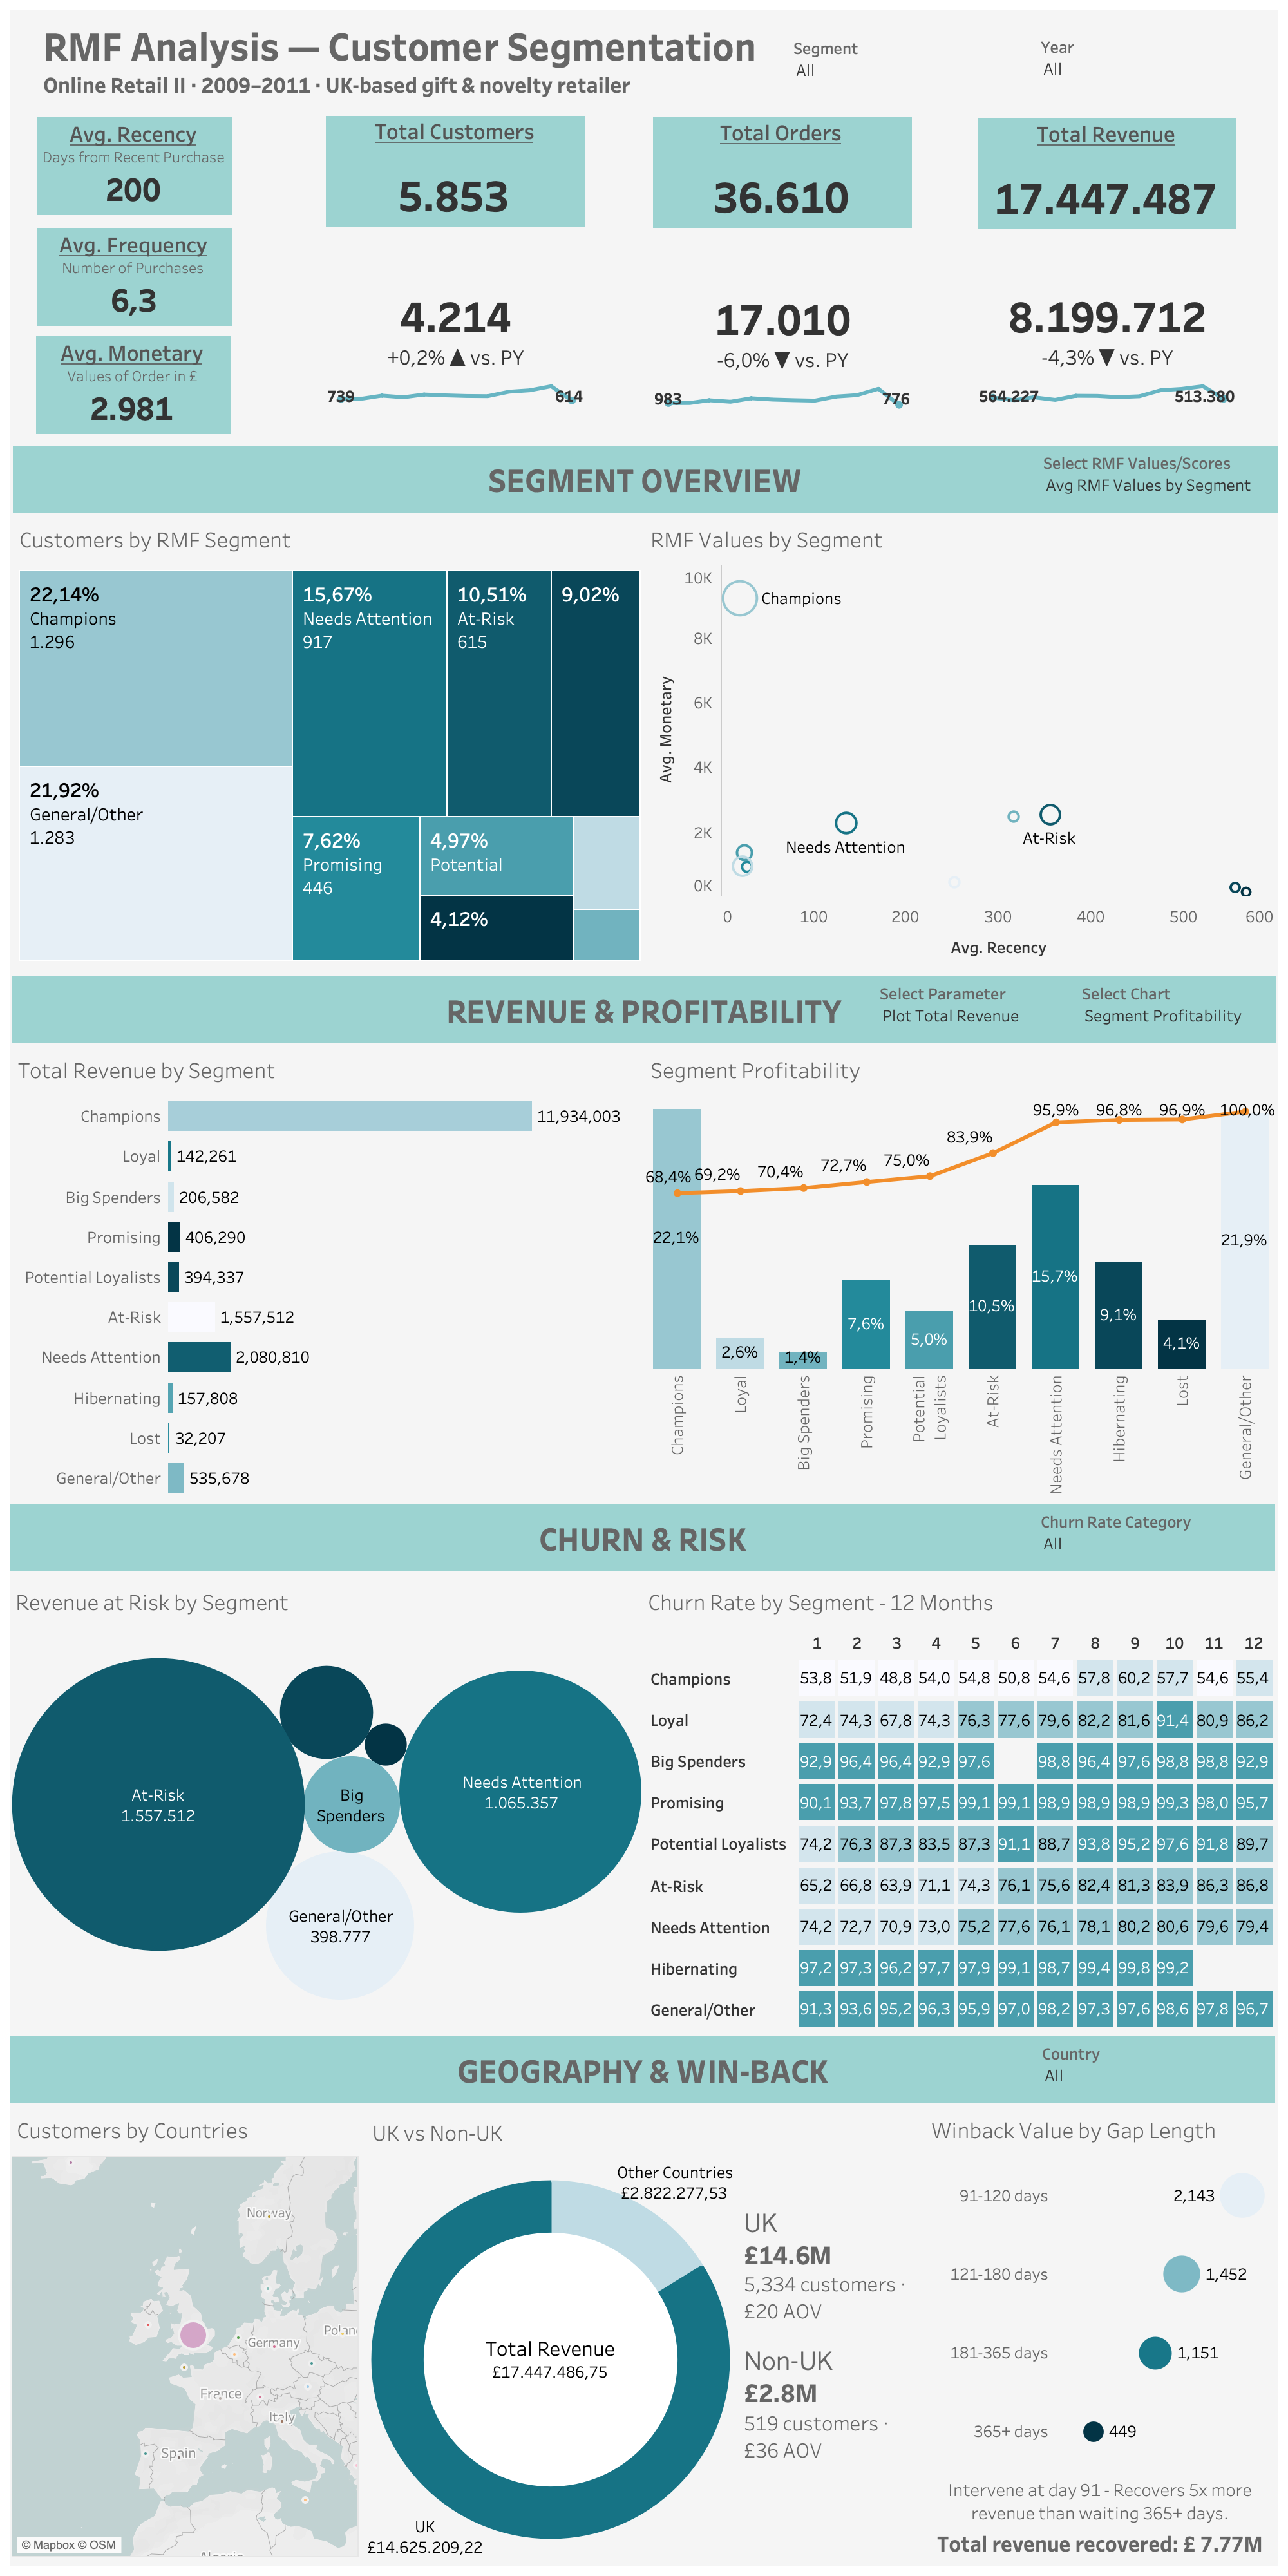

The page's visual inventory and layout, read from the dashboard file:
{"tool":"tableau","page":{"name":"RMFAnalysis Dashboard","canvas":[1000,2000],"ordinal":0},"visuals":[{"type":"text","box":[30.6,14,957.3,64.7]},{"type":"filter","title":"Customer Number by Segment","param":"[federated.0dqhiro10sj2xa1esg9tx1ptpyhj].[yr:invoice_date (cleaned_retail_main.c","box":[808,27,180,42]},{"type":"filter","title":"Customer Number by Segment","param":"[federated.0dqhiro10sj2xa1esg9tx1ptpyhj].[none:customer_segment (customer_rfm_se","box":[616,28,180,42]},{"type":"worksheet","title":"Total Customers ","mark":"Automatic","box":[253,90,200,85]},{"type":"worksheet","title":"Avg. Recency","mark":"Automatic","box":[29,91,150,75]},{"type":"worksheet","title":"Total Orders","mark":"Automatic","box":[507,91,200,85]},{"type":"worksheet","title":"Total Revenue","mark":"Automatic","box":[759,92,200,85]},{"type":"worksheet","title":"Avg. Frequency","mark":"Automatic","box":[29,177,150,75]},{"type":"worksheet","title":"Customers over 12 Months ","mark":"Automatic","rows":["customer_id (cleaned_retail_main.csv)"],"cols":["invoice_date (cleaned_retail_main.csv)"],"box":[254,217,200,100]},{"type":"worksheet","title":"Revenue over 12 Months","mark":"Automatic","rows":["total_price"],"cols":["invoice_date (cleaned_retail_main.csv)"],"box":[760,217,200,100]},{"type":"worksheet","title":"Orders over 12 Months ","mark":"Automatic","rows":["invoice (cleaned_retail_main.csv)"],"cols":["invoice_date (cleaned_retail_main.csv)"],"box":[508,219,200,100]},{"type":"worksheet","title":"Avg. Monetary","mark":"Automatic","box":[28,261,150,75]},{"type":"text","box":[10,346,982,52]},{"type":"parameter","param":"[Parameters].[Parameter 1]","box":[810,350,180,44]},{"type":"worksheet","title":"Customer Number by Segment","mark":"Automatic","box":[11,401,490,350]},{"type":"worksheet","title":"Avg RMF Values by Segment","mark":"Automatic","rows":["monetary"],"cols":["recency_days"],"box":[501,401,490,350]},{"type":"worksheet","title":"Avg RMF Scores by Segment","mark":"Automatic","rows":["m_score"],"cols":["r_score"],"box":[500,403,490,350]},{"type":"text","box":[9,758,982,52]},{"type":"parameter","param":"[Parameters].[Parameter 2]","box":[683,762,150,42]},{"type":"parameter","param":"[Parameters].[Parameter 3]","box":[840,762,150,42]},{"type":"worksheet","title":"Average Revenue by Segment","mark":"Automatic","rows":["customer_segment (customer_rfm_segmentation_summary.csv)"],"cols":["avg_monetary"],"box":[9,812,490,350]},{"type":"worksheet","title":"Total Revenue by Segment","mark":"Automatic","rows":["customer_segment (segment_yield_and_profitability.csv)"],"cols":["segment_revenue"],"box":[10,813,490,350]},{"type":"worksheet","title":"Pareto Curve","mark":"Line","rows":["pct_of_total_revenue"],"cols":["pct_of_customer_base"],"box":[500,813,490,350]},{"type":"worksheet","title":"Segment Profitability ","mark":"Automatic","rows":["pct_of_customer_base","segment_revenue"],"cols":["customer_segment (segment_yield_and_profitability.csv)"],"box":[501,813,490,350]},{"type":"worksheet","title":"CLV by Segment","mark":"Automatic","rows":["customer_segment (predictive_clv_analysis.csv)"],"cols":["predicted_clv"],"box":[9,814,490,350]},{"type":"worksheet","title":"AOV by Segment ","mark":"Automatic","rows":["customer_segment (predictive_clv_analysis.csv)"],"cols":["aov"],"box":[11,814,490,350]},{"type":"worksheet","title":"Total Orders by Segment","mark":"Automatic","rows":["customer_segment (customer_rfm_segmentation_summary.csv1)"],"cols":["total_orders"],"box":[9,815,490,350]},{"type":"text","box":[8,1168,982,52]},{"type":"filter","title":"Churn rate by Segment over 12 Months","param":"[federated.0dqhiro10sj2xa1esg9tx1ptpyhj].[none:Calculation_2711523285372958:nk]","box":[808,1172,180,42]},{"type":"worksheet","title":"Revenue at Risk by Segment","mark":"Circle","box":[8,1226,490,350]},{"type":"worksheet","title":"Churn rate by Segment over 12 Months","mark":"Square","rows":["customer_segment (retention_rates_by_rfm_segments.csv)"],"cols":["month_number"],"box":[499,1226,490,350]},{"type":"text","box":[8,1581,982,52]},{"type":"filter","title":"Customers by Countries","param":"[federated.0dqhiro10sj2xa1esg9tx1ptpyhj].[none:country (cleaned_retail_main.csv)","box":[809,1585,180,44]},{"type":"worksheet","title":"Customers by Countries","mark":"Automatic","box":[9,1636,270,350]},{"type":"worksheet","title":"Winback Value by Gap Length","mark":"Circle","rows":["gap_bucket"],"cols":["avg_revenue_after_winback"],"box":[719,1636,270,282]},{"type":"worksheet","title":"Total Revenue UK vs Others","mark":"Pie","rows":["Calculation_2711522637090822","Calculation_2711522637090822"],"box":[285,1638,285,350]},{"type":"text","box":[575,1639,141,350]},{"type":"text","box":[719,1920,270,70]}]}

Visuals, with their boxes in screenshot pixels (x1, y1, x2, y2), scaled from the page's 1000x2000 canvas onto the 1288x2576 screenshot:
text: [left=39, top=18, right=1273, bottom=101]
"Customer Number by Segment" filter: [left=1041, top=35, right=1273, bottom=89]
"Customer Number by Segment" filter: [left=793, top=36, right=1025, bottom=90]
"Total Customers " worksheet: [left=326, top=116, right=583, bottom=225]
"Avg. Recency" worksheet: [left=37, top=117, right=231, bottom=214]
"Total Orders" worksheet: [left=653, top=117, right=911, bottom=227]
"Total Revenue" worksheet: [left=978, top=118, right=1235, bottom=228]
"Avg. Frequency" worksheet: [left=37, top=228, right=231, bottom=325]
"Customers over 12 Months " worksheet: [left=327, top=279, right=585, bottom=408]
"Revenue over 12 Months" worksheet: [left=979, top=279, right=1236, bottom=408]
"Orders over 12 Months " worksheet: [left=654, top=282, right=912, bottom=411]
"Avg. Monetary" worksheet: [left=36, top=336, right=229, bottom=433]
text: [left=13, top=446, right=1278, bottom=513]
parameter: [left=1043, top=451, right=1275, bottom=507]
"Customer Number by Segment" worksheet: [left=14, top=516, right=645, bottom=967]
"Avg RMF Values by Segment" worksheet: [left=645, top=516, right=1276, bottom=967]
"Avg RMF Scores by Segment" worksheet: [left=644, top=519, right=1275, bottom=970]
text: [left=12, top=976, right=1276, bottom=1043]
parameter: [left=880, top=981, right=1073, bottom=1036]
parameter: [left=1082, top=981, right=1275, bottom=1036]
"Average Revenue by Segment" worksheet: [left=12, top=1046, right=643, bottom=1497]
"Total Revenue by Segment" worksheet: [left=13, top=1047, right=644, bottom=1498]
"Pareto Curve" worksheet (Line marks): [left=644, top=1047, right=1275, bottom=1498]
"Segment Profitability " worksheet: [left=645, top=1047, right=1276, bottom=1498]
"CLV by Segment" worksheet: [left=12, top=1048, right=643, bottom=1499]
"AOV by Segment " worksheet: [left=14, top=1048, right=645, bottom=1499]
"Total Orders by Segment" worksheet: [left=12, top=1050, right=643, bottom=1501]
text: [left=10, top=1504, right=1275, bottom=1571]
"Churn rate by Segment over 12 Months" filter: [left=1041, top=1510, right=1273, bottom=1564]
"Revenue at Risk by Segment" worksheet (Circle marks): [left=10, top=1579, right=641, bottom=2030]
"Churn rate by Segment over 12 Months" worksheet (Square marks): [left=643, top=1579, right=1274, bottom=2030]
text: [left=10, top=2036, right=1275, bottom=2103]
"Customers by Countries" filter: [left=1042, top=2041, right=1274, bottom=2098]
"Customers by Countries" worksheet: [left=12, top=2107, right=359, bottom=2558]
"Winback Value by Gap Length" worksheet (Circle marks): [left=926, top=2107, right=1274, bottom=2470]
"Total Revenue UK vs Others" worksheet (Pie marks): [left=367, top=2110, right=734, bottom=2561]
text: [left=741, top=2111, right=922, bottom=2562]
text: [left=926, top=2473, right=1274, bottom=2563]
